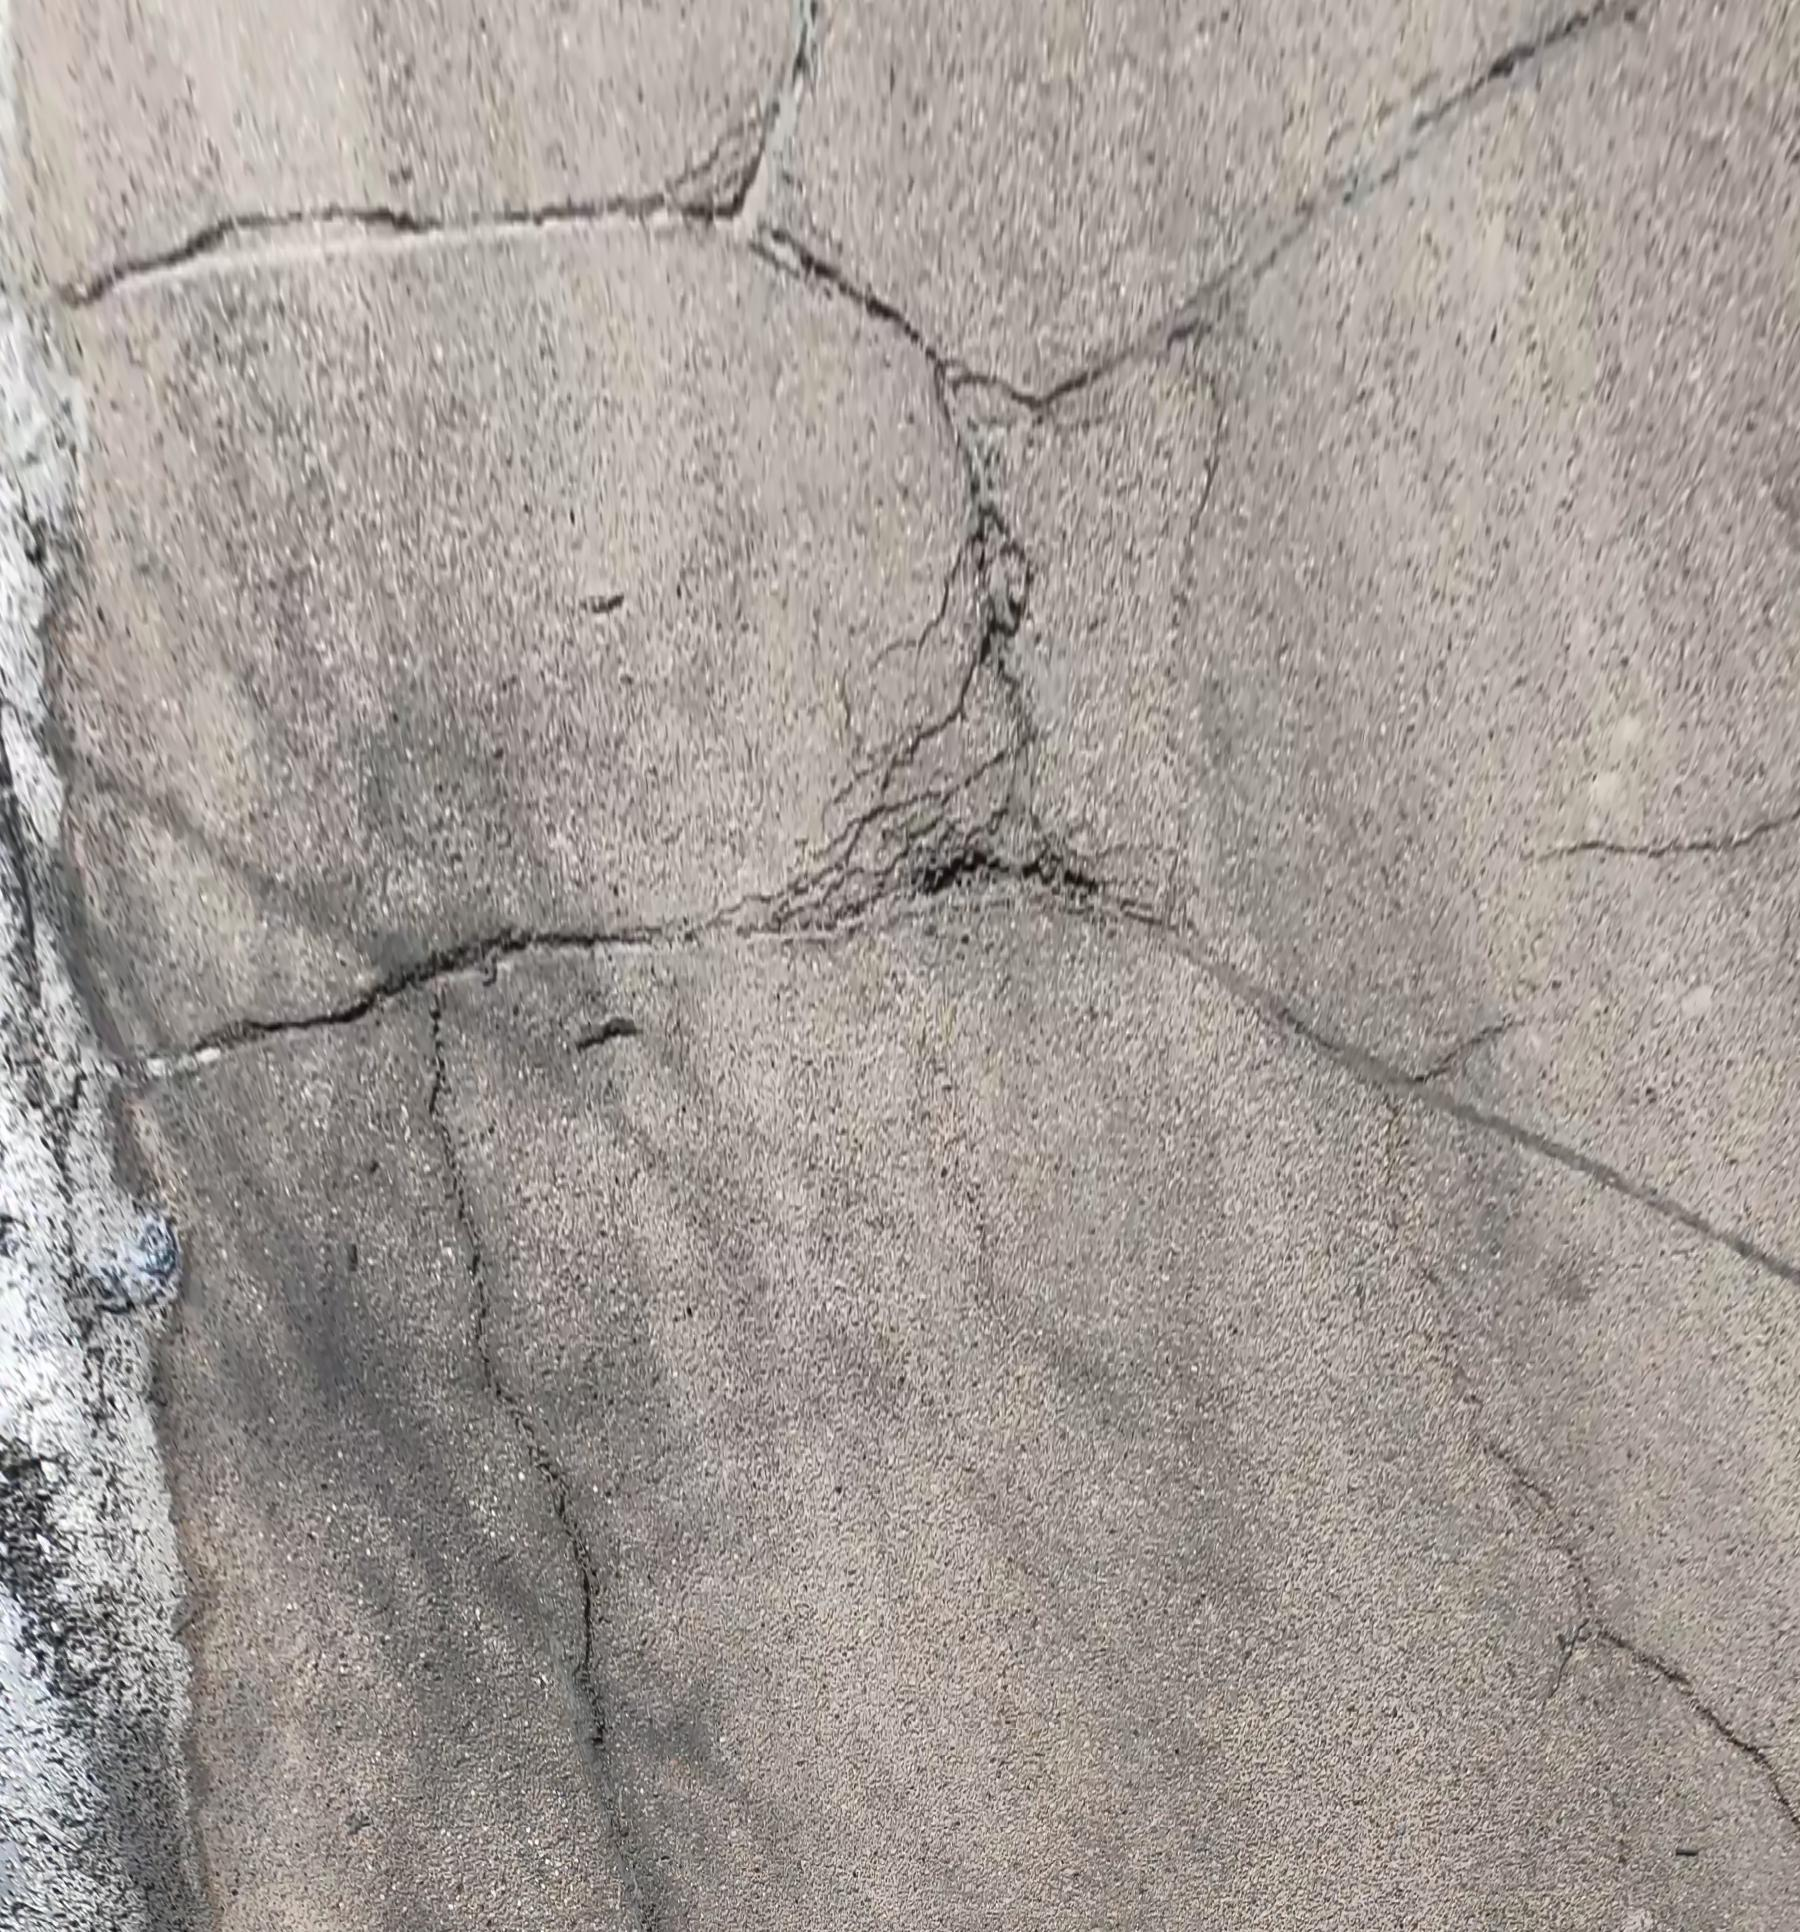pothole: (914, 778, 1167, 919)
